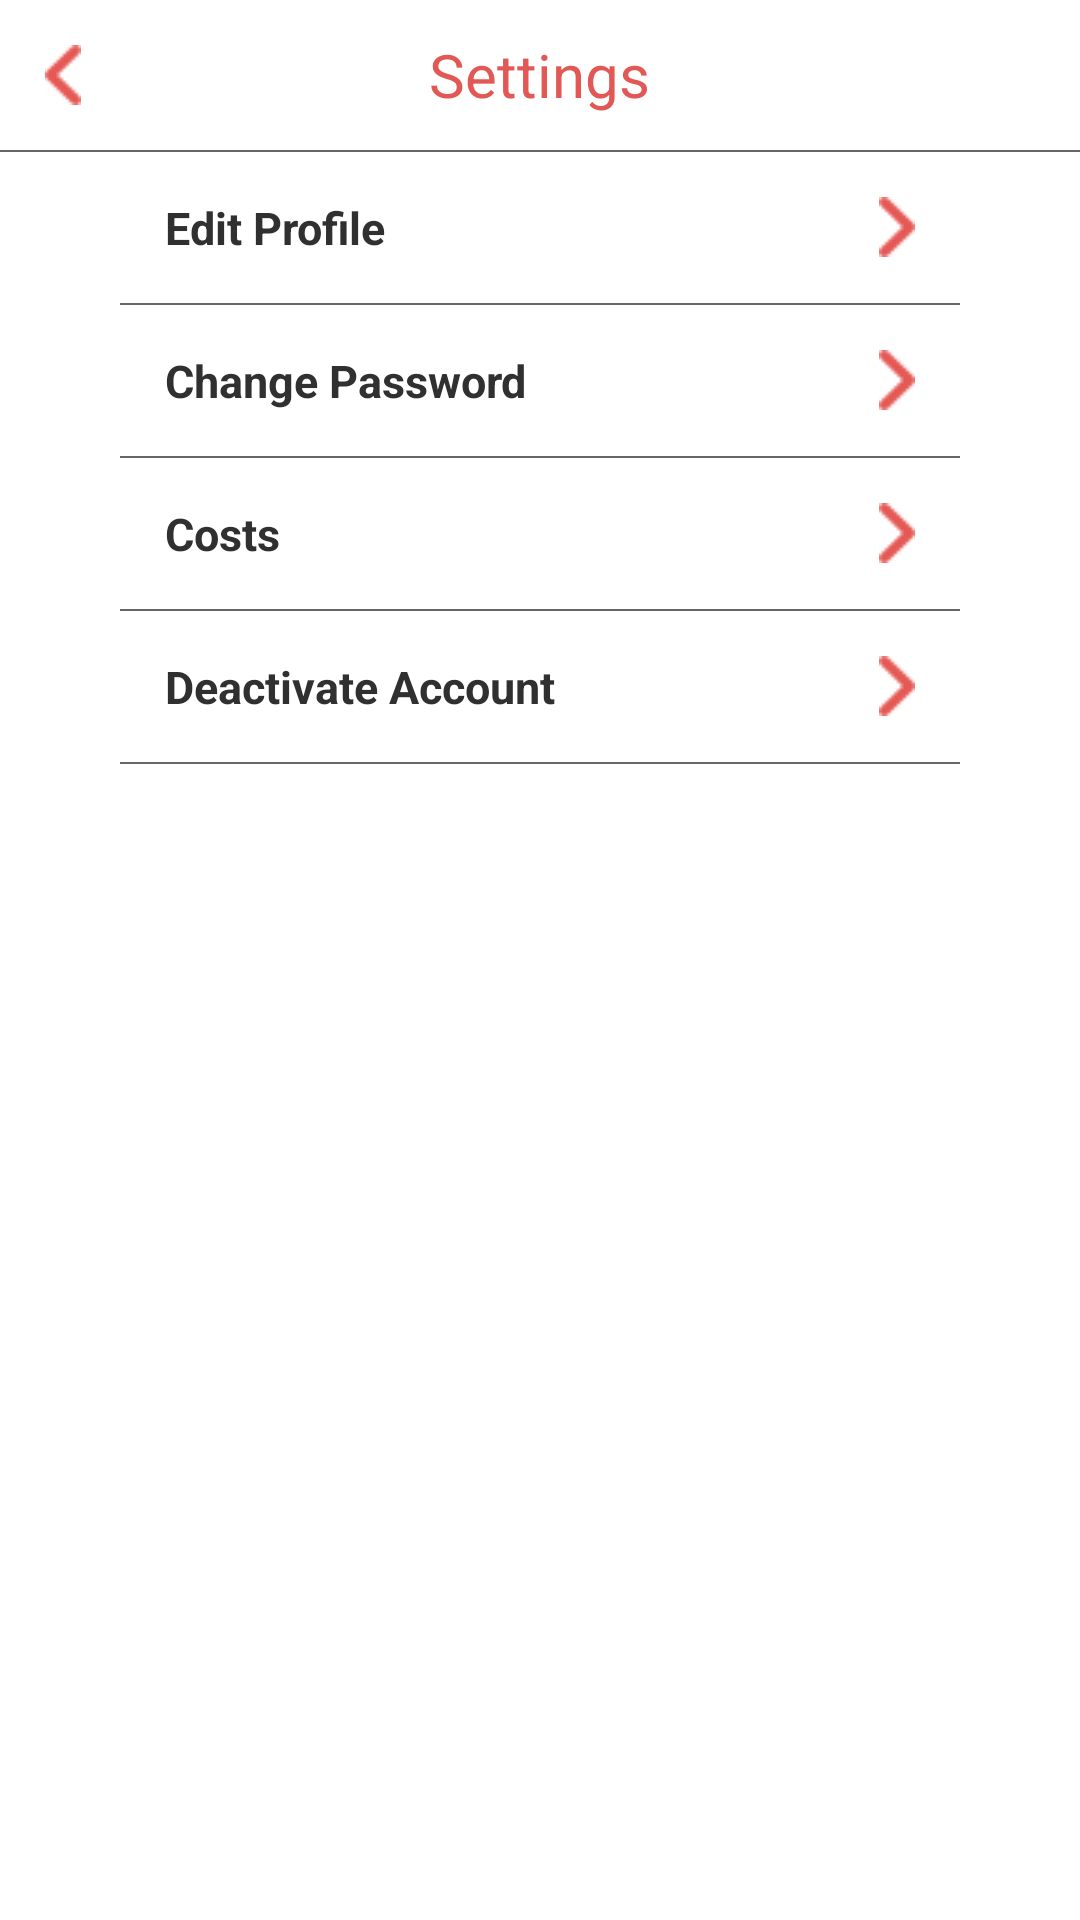

Icons on this 1080×1920 Android screen, each with the point to tap as point (x, y):
back arrow: point (63, 75)
more: point (897, 227), point (897, 380), point (897, 533), point (897, 686)
